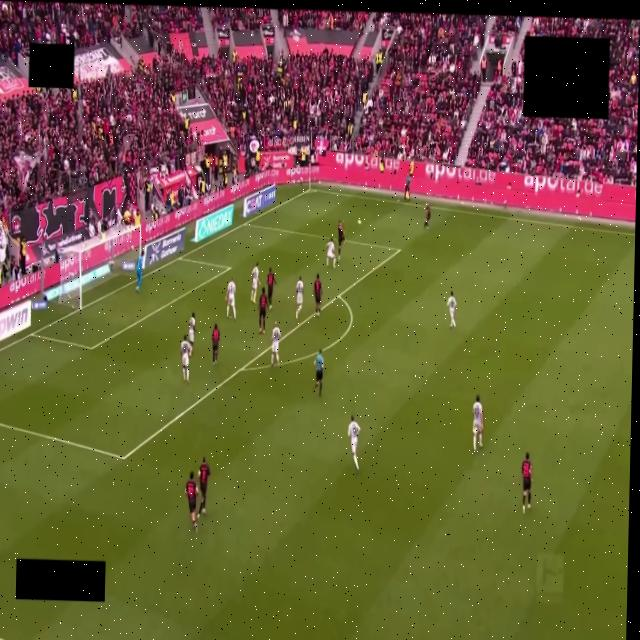ball: (357, 220, 360, 225)
player: (346, 415, 360, 472), (197, 456, 210, 517), (185, 471, 198, 531), (522, 453, 532, 512), (473, 395, 483, 451), (271, 322, 282, 367), (180, 335, 190, 383), (225, 279, 236, 319), (259, 288, 268, 334), (295, 277, 304, 319), (267, 268, 275, 310), (314, 274, 322, 316), (212, 324, 220, 366), (251, 263, 259, 303), (136, 251, 144, 291), (447, 293, 456, 328), (326, 238, 336, 267), (338, 220, 345, 260), (189, 313, 195, 347), (424, 204, 431, 229)
referee: (314, 350, 324, 396)
